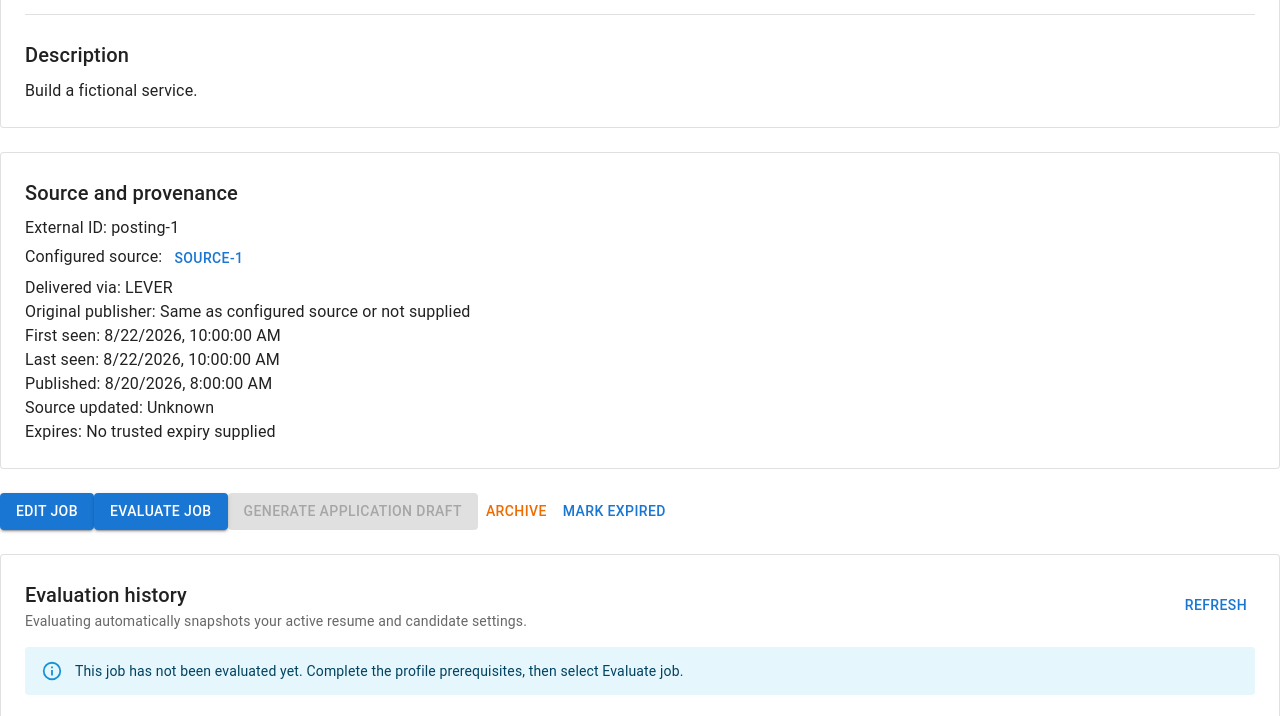
Test: Phase 3 job pages › archives an active job
(page scrolled)
Click the button "Archive": (516, 512) [478,493,555,530]
(page scrolled)
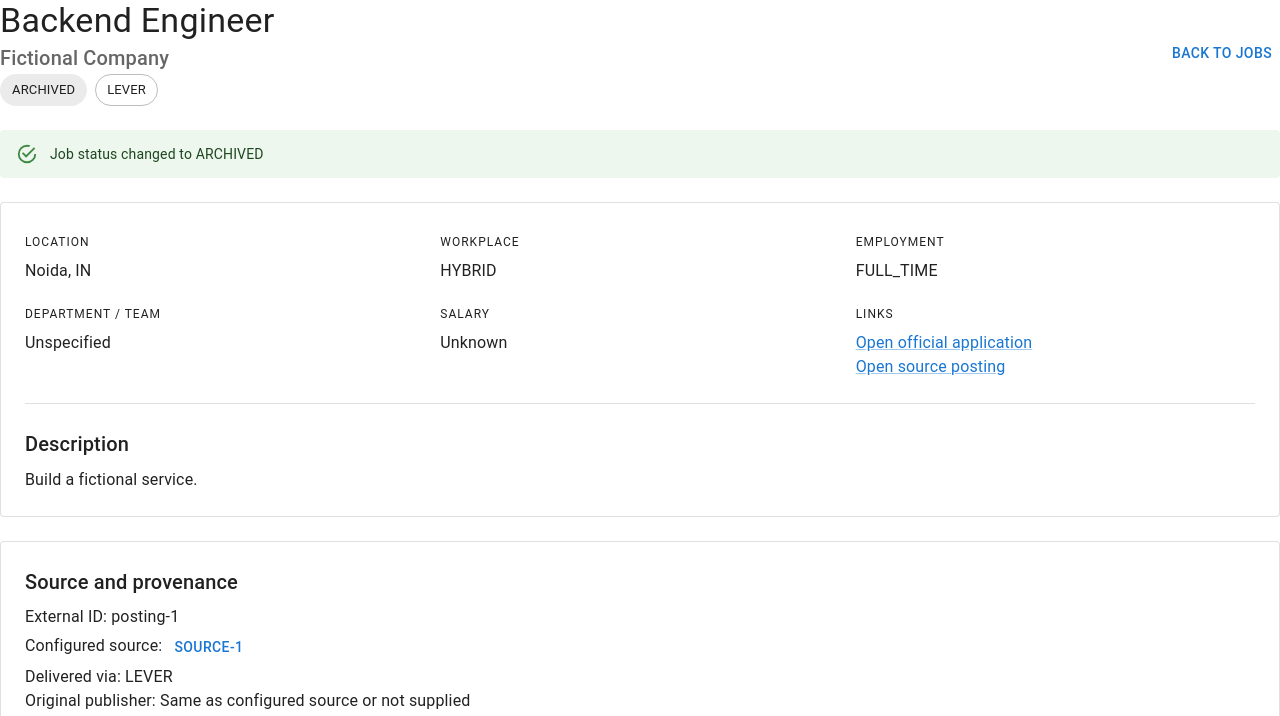
Expected: the text "Job status changed to ARCHIVED" is shown, [50,146,264,162]
